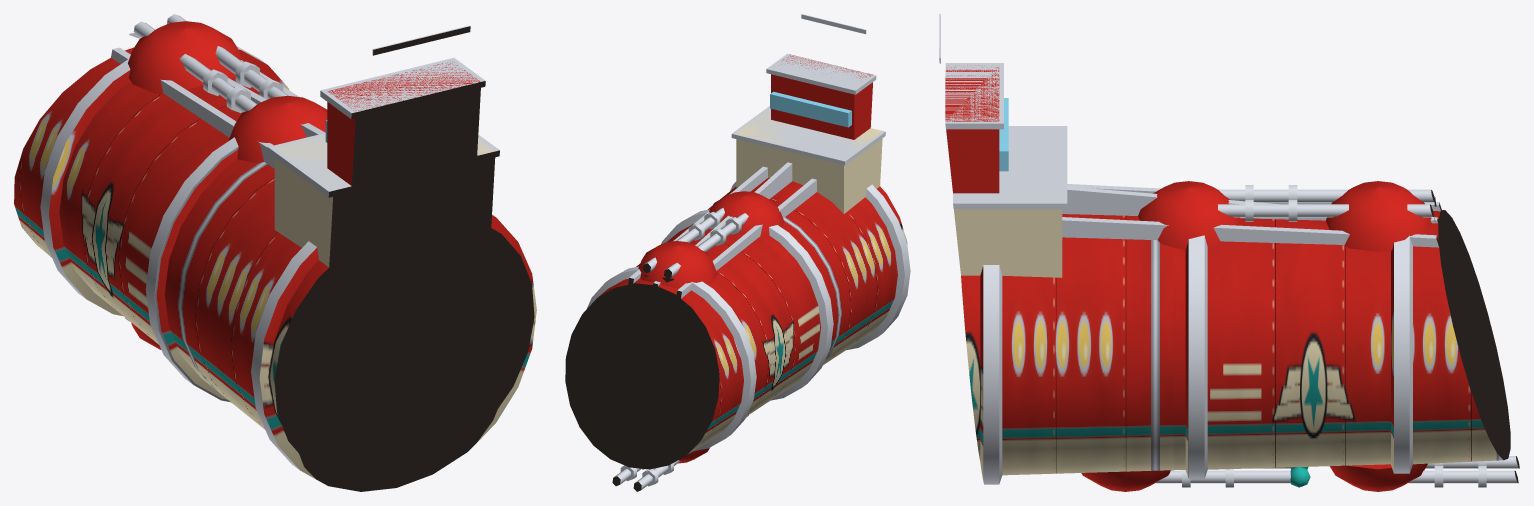
File: victory_debris2.obj
The picture shows the model from 3 angles, left to right: view 1: azimuth 30°, elevation 25°; view 2: azimuth 150°, elevation 25°; view 3: azimuth 270°, elevation 25°; orthographic projection. The views are drawn at different scales.
Parts seen in each view (by area): view 1: hull, bridge0, bridge1, turret, bridge_trim1, bridge_trim0, speedline, turret_gun, turret_gun_ring, bridge_trim2; view 2: hull, bridge0, turret, bridge_trim0, bridge1, speedline, bridge_trim1, turret_gun, bridge_glass, turret_gun_ring; view 3: hull, turret, speedline, bridge0, turret_gun, bridge_trim0, bridge1, bridge_trim1, turret_gun_ring.
Part boxes in pixels (x1,y1,x2,y2): hull: (14,46,536,491); bridge0: (274,136,495,272); bridge1: (327,61,480,185); turret: (128,21,327,349); bridge_trim1: (320,58,485,119); bridge_trim0: (267,133,499,197); speedline: (111,47,325,168); turret_gun: (133,14,288,112); turret_gun_ring: (125,33,283,321); bridge_trim2: (372,25,470,55); hull: (565,178,910,469); bridge0: (736,109,882,213); turret: (638,191,784,463); bridge_trim0: (731,106,885,165); bridge1: (771,54,872,139); speedline: (627,162,816,304); bridge_trim1: (766,53,876,94); turret_gun: (612,207,748,491); bridge_glass: (770,91,851,127); turret_gun_ring: (620,211,748,486); hull: (961,210,1510,484); turret: (1081,181,1431,491); speedline: (1062,184,1444,254); bridge0: (954,209,1062,277); turret_gun: (1155,189,1519,483); bridge_trim0: (953,126,1067,209); bridge1: (945,65,999,193); bridge_trim1: (945,63,1003,129); turret_gun_ring: (1182,185,1486,487).
Bounding box in the file's own units: 18.85 × 31.4 × 36.78.
7 materials, 1 textured.
